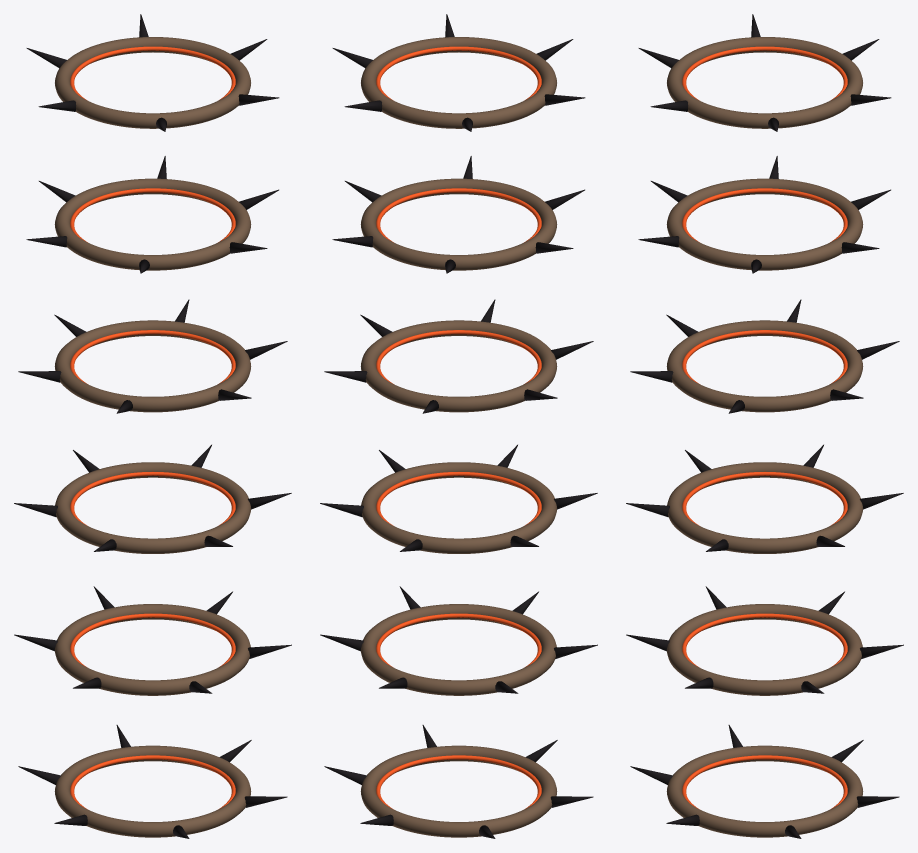
The model's file is laufringe.obj.
3 views of the same model, side by side, from view 1: azimuth 30°, elevation 25°; view 2: azimuth 150°, elevation 25°; view 3: azimuth 270°, elevation 25° (orthographic).
Parts seen in each view (by area): view 1: Laufringe; view 2: Laufringe; view 3: Laufringe.
Boxes of the visible parts, left/top/right/bottom form: Laufringe: left=14, top=14, right=291, bottom=838; Laufringe: left=320, top=14, right=597, bottom=838; Laufringe: left=626, top=14, right=903, bottom=838.
Bounding box in the file's own units: 160 × 461 × 160.
